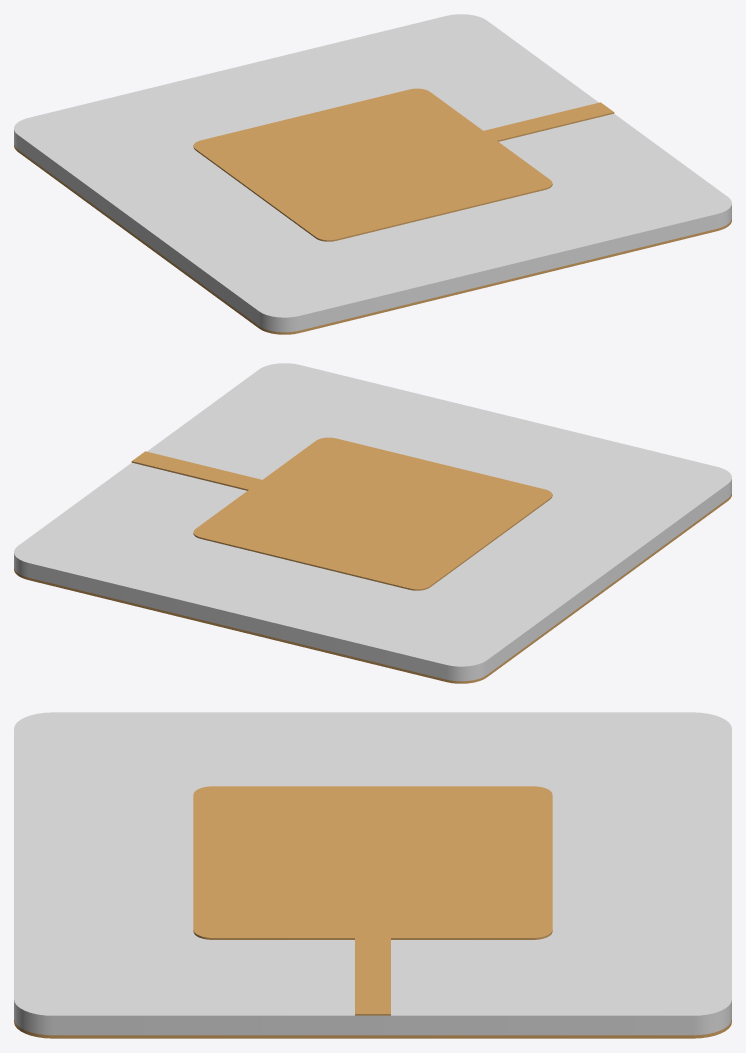
3 renders of one model, top to bottom at view 1: azimuth 30°, elevation 25°; view 2: azimuth 150°, elevation 25°; view 3: azimuth 270°, elevation 25°, orthographic. The views are drawn at different scales.
Parts seen in each view (by area): view 1: board, patch, gnd; view 2: board, patch, gnd; view 3: board, patch, gnd.
Boxes of the visible parts, <box> form: board: <box>14,14,731,332</box>; patch: <box>193,88,614,241</box>; gnd: <box>14,145,731,334</box>; board: <box>14,363,731,681</box>; patch: <box>131,437,552,590</box>; gnd: <box>14,494,731,683</box>; board: <box>14,712,731,1035</box>; patch: <box>193,786,552,1015</box>; gnd: <box>14,1020,731,1038</box>.
Bounding box in the file's own units: 2 × 0.076 × 2.
